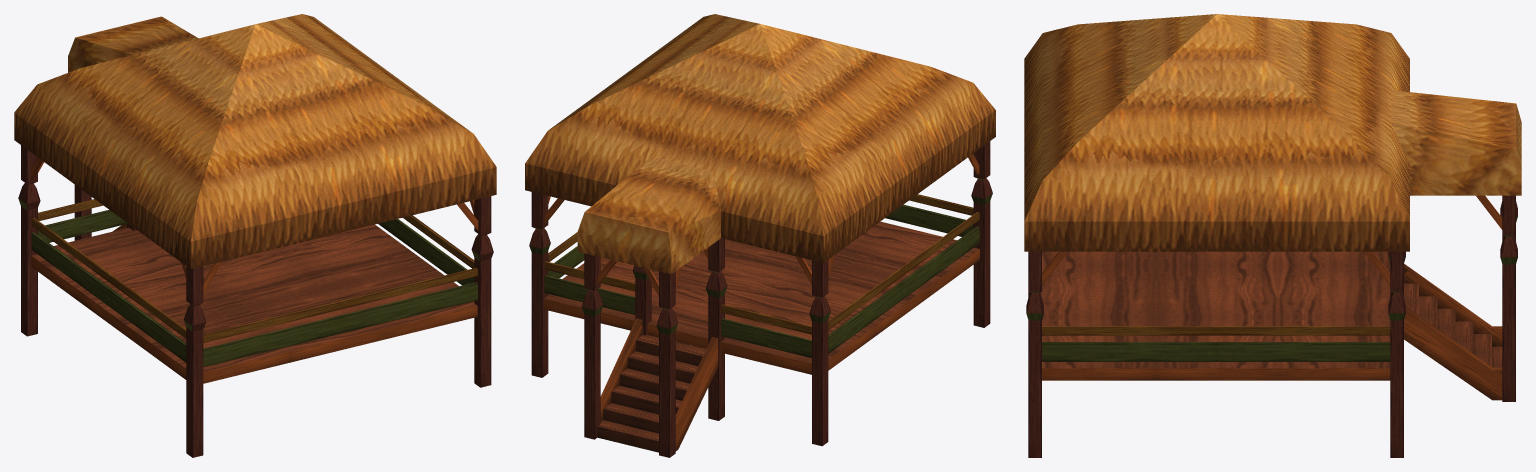
Rendered from ETC0610001.fbx.
The picture shows the model from 3 angles, left to right: view 1: azimuth 30°, elevation 25°; view 2: azimuth 150°, elevation 25°; view 3: azimuth 270°, elevation 25°; orthographic projection. The views are drawn at different scales.
Parts seen in each view (by area): view 1: smETC0610001; view 2: smETC0610001; view 3: smETC0610001.
Boxes of the visible parts, x1,y1,x2,y2 form: smETC0610001: (14,14,496,457); smETC0610001: (525,14,995,457); smETC0610001: (1024,14,1521,457).
Size of the model in its own units: 630 by 657 by 812.
Materials: 1 (1 with a texture image).
